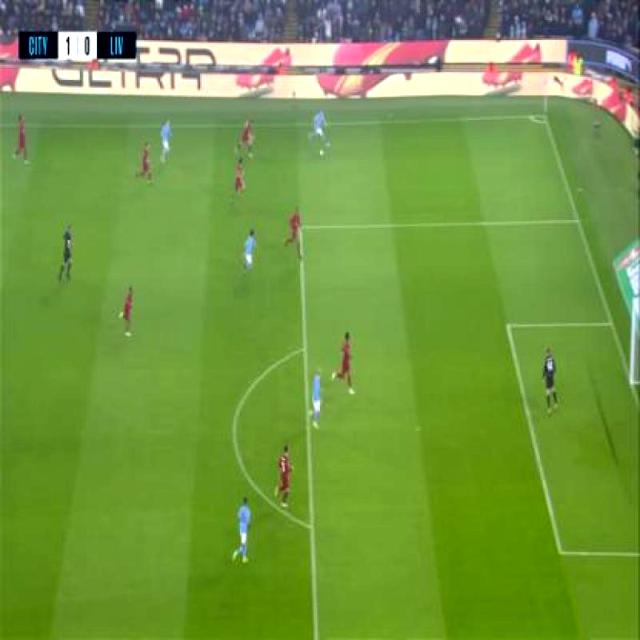bigarea_top_outter: (572, 214, 582, 228)
bottom_arc_area_intersection: (306, 517, 317, 537)
corner: (531, 110, 549, 125)
smallarea_bottom_inner: (554, 537, 569, 566)
smallarea_top_inner: (503, 318, 512, 334)
smallarea_top_outter: (606, 316, 617, 330), (298, 221, 305, 234)
top_arc_area_intersection: (298, 342, 312, 358)
